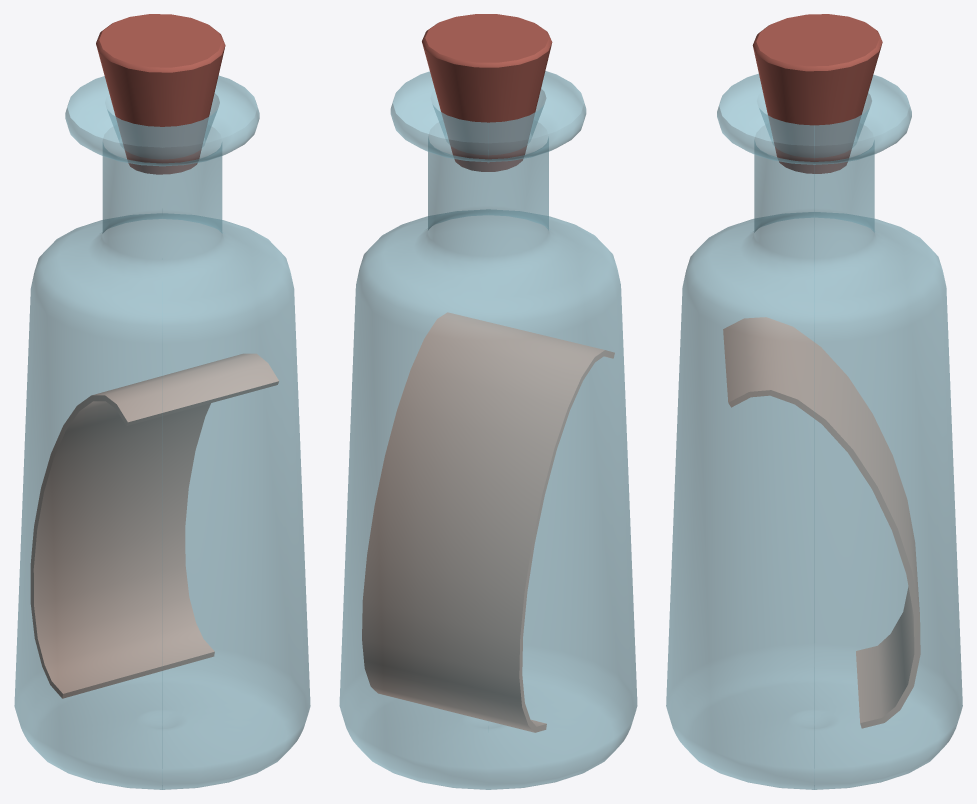
File: BottleWithLetter.fbx
3 renders of one model, left to right at view 1: azimuth 30°, elevation 25°; view 2: azimuth 150°, elevation 25°; view 3: azimuth 270°, elevation 25°, orthographic.
Visible parts, largest first — view 1: Bottle, Paper, Cap; view 2: Bottle, Paper, Cap; view 3: Bottle, Paper, Cap.
Boxes of the visible parts, left/top/right/bottom form: Bottle: left=14, top=75, right=310, bottom=789; Paper: left=30, top=353, right=278, bottom=698; Cap: left=96, top=14, right=225, bottom=174; Bottle: left=339, top=71, right=637, bottom=789; Paper: left=362, top=312, right=614, bottom=732; Cap: left=422, top=14, right=552, bottom=171; Bottle: left=666, top=73, right=962, bottom=789; Paper: left=723, top=317, right=920, bottom=728; Cap: left=752, top=14, right=882, bottom=173.
Bounding box in the file's own units: 90.53 × 235 × 90.53.
